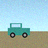vehicle: (8, 23, 30, 37)
